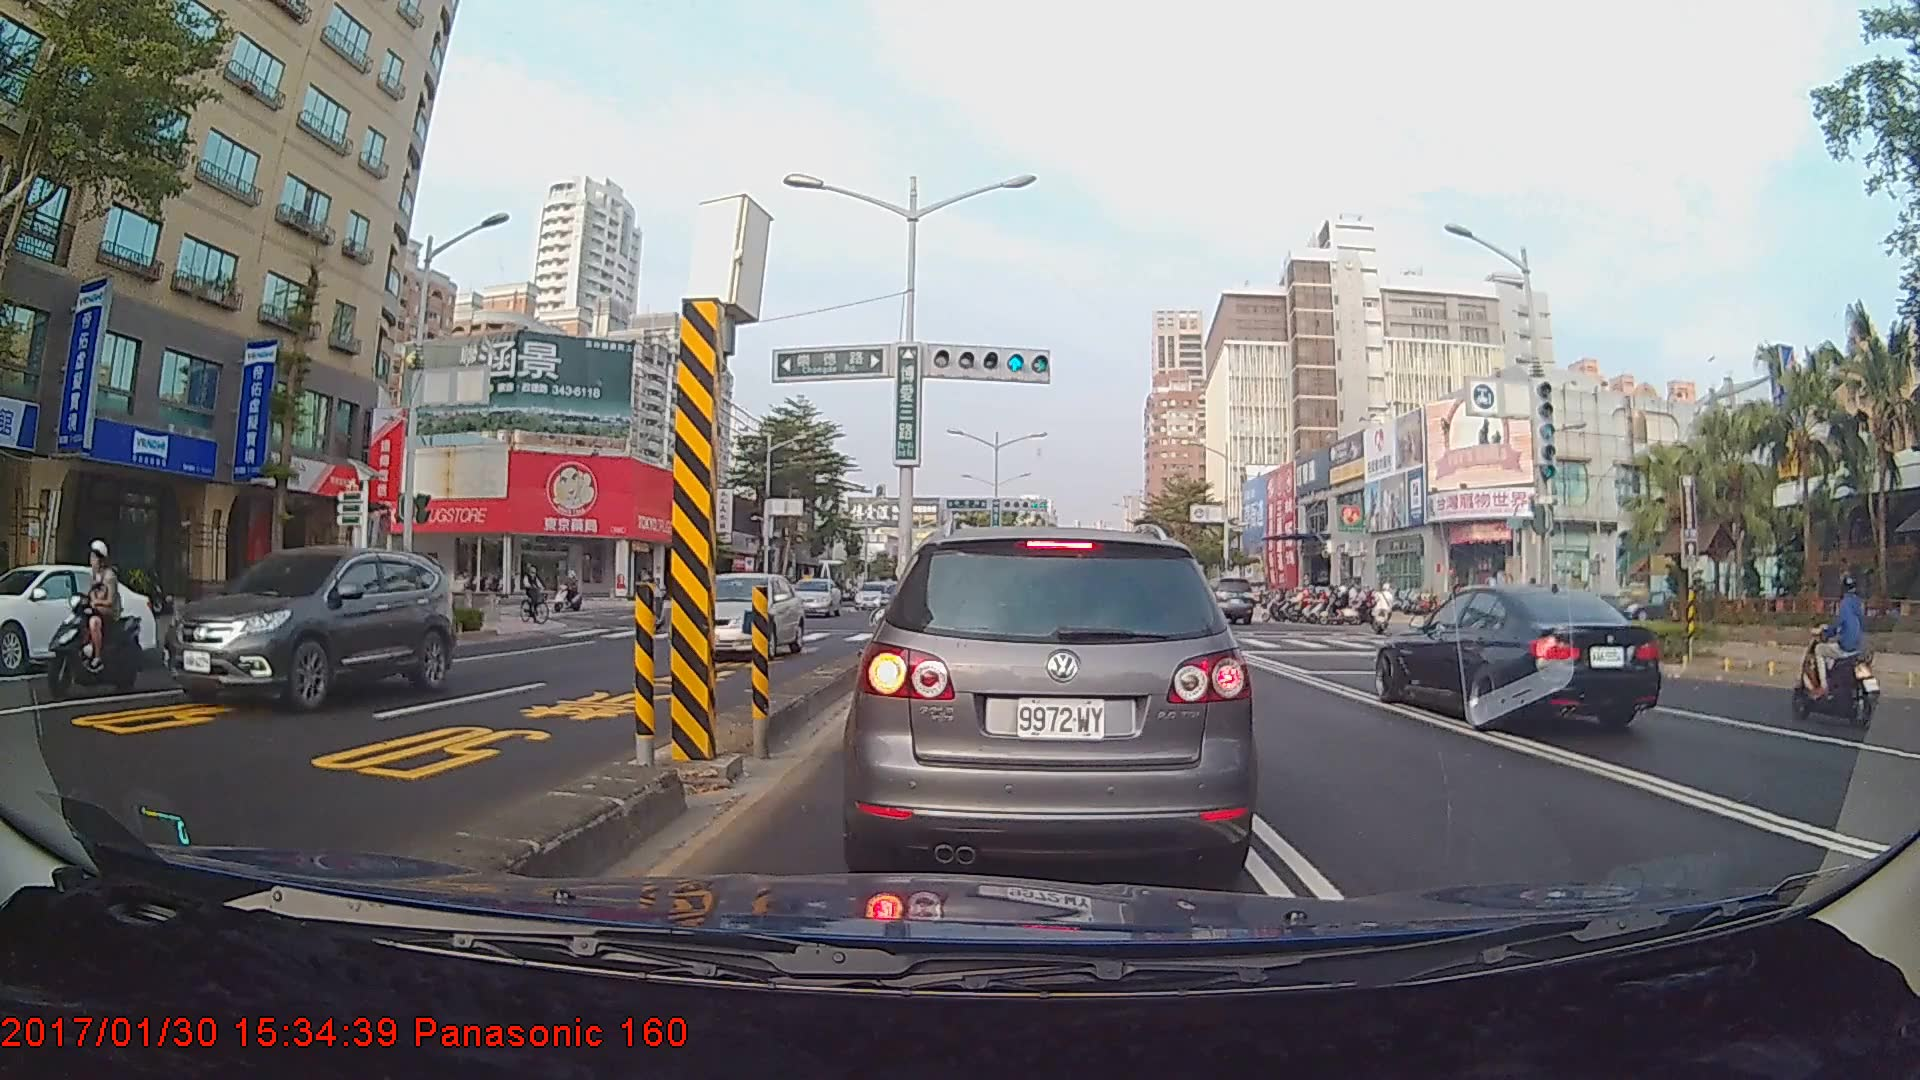rider: (1789, 569, 1886, 728), (47, 543, 145, 697), (374, 564, 443, 657), (518, 559, 561, 629), (1436, 582, 1473, 646), (1366, 582, 1402, 641), (552, 570, 588, 614)
vehicle: (854, 525, 1247, 882), (161, 543, 454, 713), (1373, 580, 1662, 730), (0, 561, 157, 671), (666, 569, 806, 662), (783, 576, 841, 618), (1204, 575, 1251, 625)
